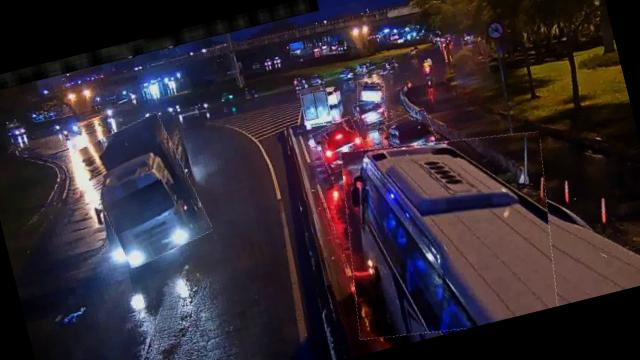Bus: (322, 113, 575, 352)
Car: (377, 109, 439, 162), (312, 116, 368, 174), (352, 94, 390, 128), (354, 77, 388, 107)
Truck: (78, 112, 210, 270), (296, 83, 346, 132)
